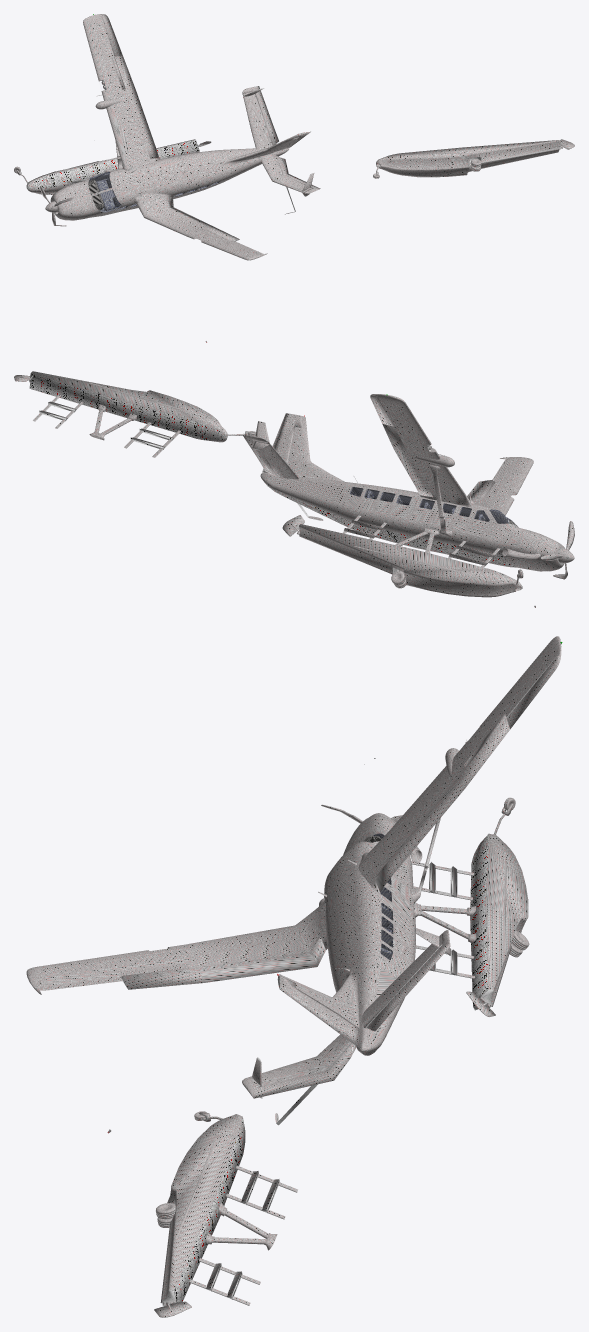
The model's file is Neoflycrashedplane2.gltf.
The picture shows the model from 3 angles, top to bottom: view 1: azimuth 30°, elevation 25°; view 2: azimuth 150°, elevation 25°; view 3: azimuth 270°, elevation 25°; orthographic projection. The views are drawn at different scales.
Parts seen in each view (by area): view 1: fuselage, flotteurs.001, ailes, ailes.001, ailerons, flotteurs, voletD; view 2: fuselage, flotteurs, flotteurs.001, ailes, ailes.001, axes.001, ailerons, axes, voletD, direction, interieur, barres (+2 smaller); view 3: fuselage, ailes.001, flotteurs.001, flotteurs, ailerons, ailes, axes.001, voletD, axes, direction.
Part boxes in pixels (x1,y1,x2,y2): fuselage: (50,133,299,220); flotteurs.001: (376,140,562,177); ailes: (83,14,159,170); ailes.001: (134,193,267,260); ailerons: (242,86,320,196); flotteurs: (26,139,199,194); voletD: (114,55,158,158); fuselage: (260,416,564,571); flotteurs: (297,524,522,597); flotteurs.001: (29,371,227,442); ailes: (371,394,474,506); ailes.001: (467,457,533,515); axes.001: (33,394,180,457); ailerons: (242,421,299,479); axes: (342,515,500,567); voletD: (382,424,432,497); direction: (262,413,301,472); interieur: (350,488,509,523); barres: (429,464,452,537); fuselage: (278,813,415,1055); ailes.001: (26,898,327,994); flotteurs.001: (160,1114,245,1305); flotteurs: (470,833,528,1010); ailerons: (242,928,451,1098); ailes: (358,636,561,894); axes.001: (189,1165,297,1305); voletD: (374,717,509,891); axes: (411,861,476,978); direction: (277,976,359,1047).
Size of the model in its own units: 24.74 by 12.16 by 12.02.
